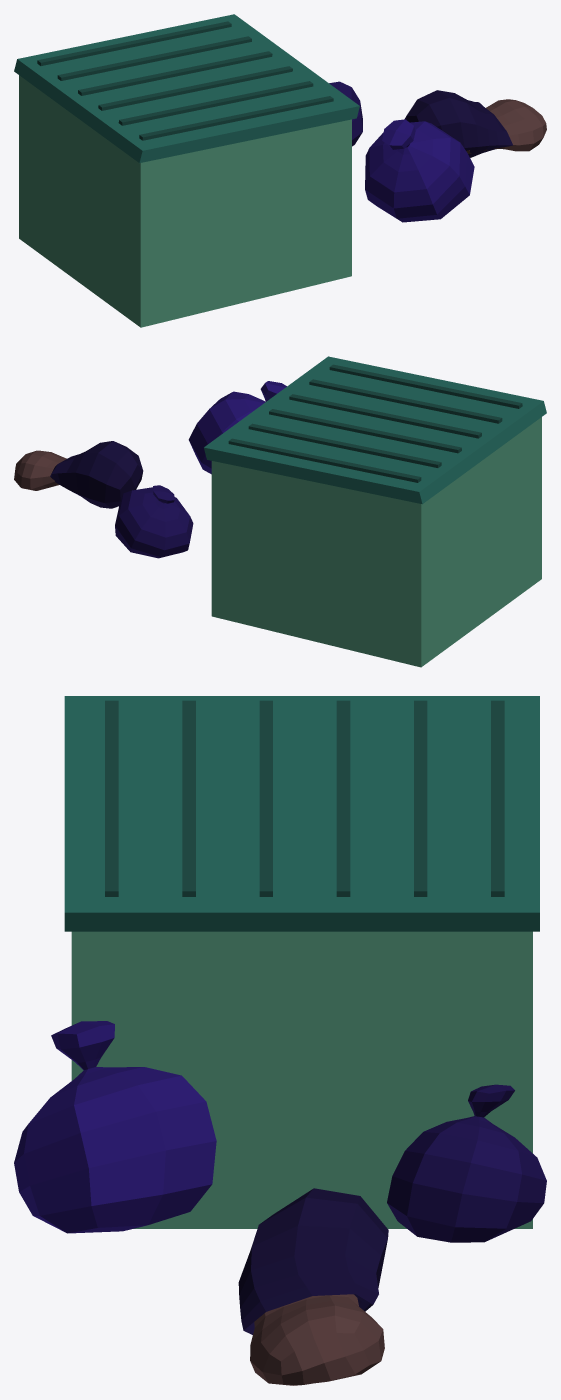
The model's file is dumpster.fbx.
3 renders of one model, top to bottom at view 1: azimuth 30°, elevation 25°; view 2: azimuth 150°, elevation 25°; view 3: azimuth 270°, elevation 25°, orthographic. The views are drawn at different scales.
Visible parts, largest first — view 1: Dumpster, Cube.015, Dumpster Lines, Cube.017, Cube.018, Cube.016; view 2: Dumpster, Dumpster Lines, Cube.016, Cube.017, Cube.015, Cube.018; view 3: Dumpster, Cube.015, Dumpster Lines, Cube.016, Cube.017, Cube.018.
Boxes of the visible parts, x1,y1,x2,y2 form: Dumpster: (14,14,359,327); Cube.015: (365,119,474,222); Dumpster Lines: (37,21,333,140); Cube.017: (405,90,512,157); Cube.018: (466,99,546,153); Cube.016: (329,81,362,146); Dumpster: (204,356,546,667); Dumpster Lines: (228,364,522,482); Cube.016: (115,485,193,558); Cube.017: (50,441,143,508); Cube.015: (188,381,286,474); Cube.018: (14,450,66,490); Dumpster: (64,696,539,1228); Cube.015: (14,1021,216,1233); Dumpster Lines: (105,700,504,896); Cube.016: (387,1084,546,1242); Cube.017: (238,1188,388,1334); Cube.018: (250,1294,384,1385).
Bounding box in the file's own units: 7844 × 2902 × 4085.
